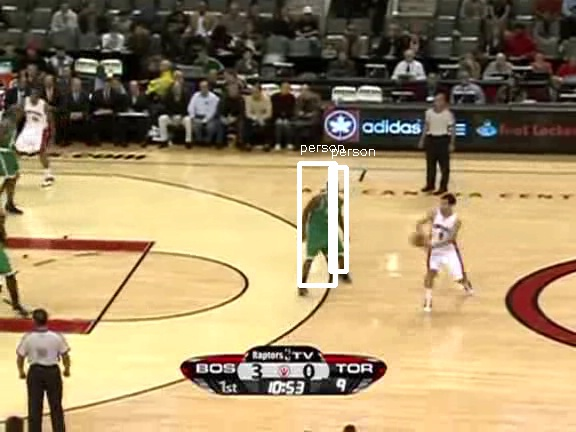person: (310, 188, 344, 269), (309, 188, 343, 269), (311, 188, 345, 269), (310, 187, 344, 268), (310, 189, 344, 270)
target_negative: (291, 168, 439, 362), (209, 209, 411, 349), (44, 410, 231, 414), (210, 426, 289, 432), (458, 393, 470, 419), (428, 390, 439, 393)
